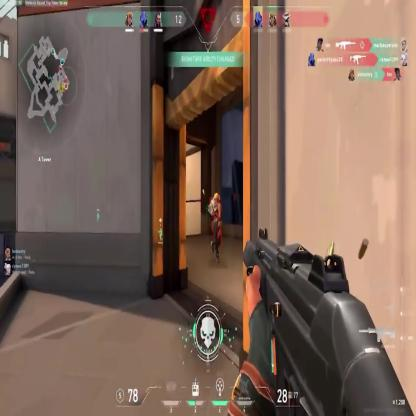enemy: (208, 190, 222, 262)
enemy_head: (214, 192, 220, 205)
